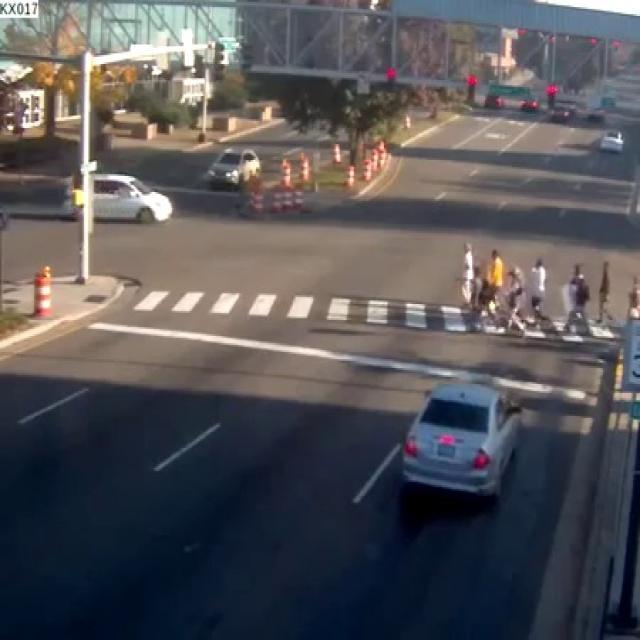car: (402, 382, 519, 493), (92, 173, 170, 219), (204, 146, 258, 186)
red_light: (464, 71, 476, 103), (544, 81, 556, 107), (383, 64, 396, 85)
stop_line: (88, 320, 588, 400)
